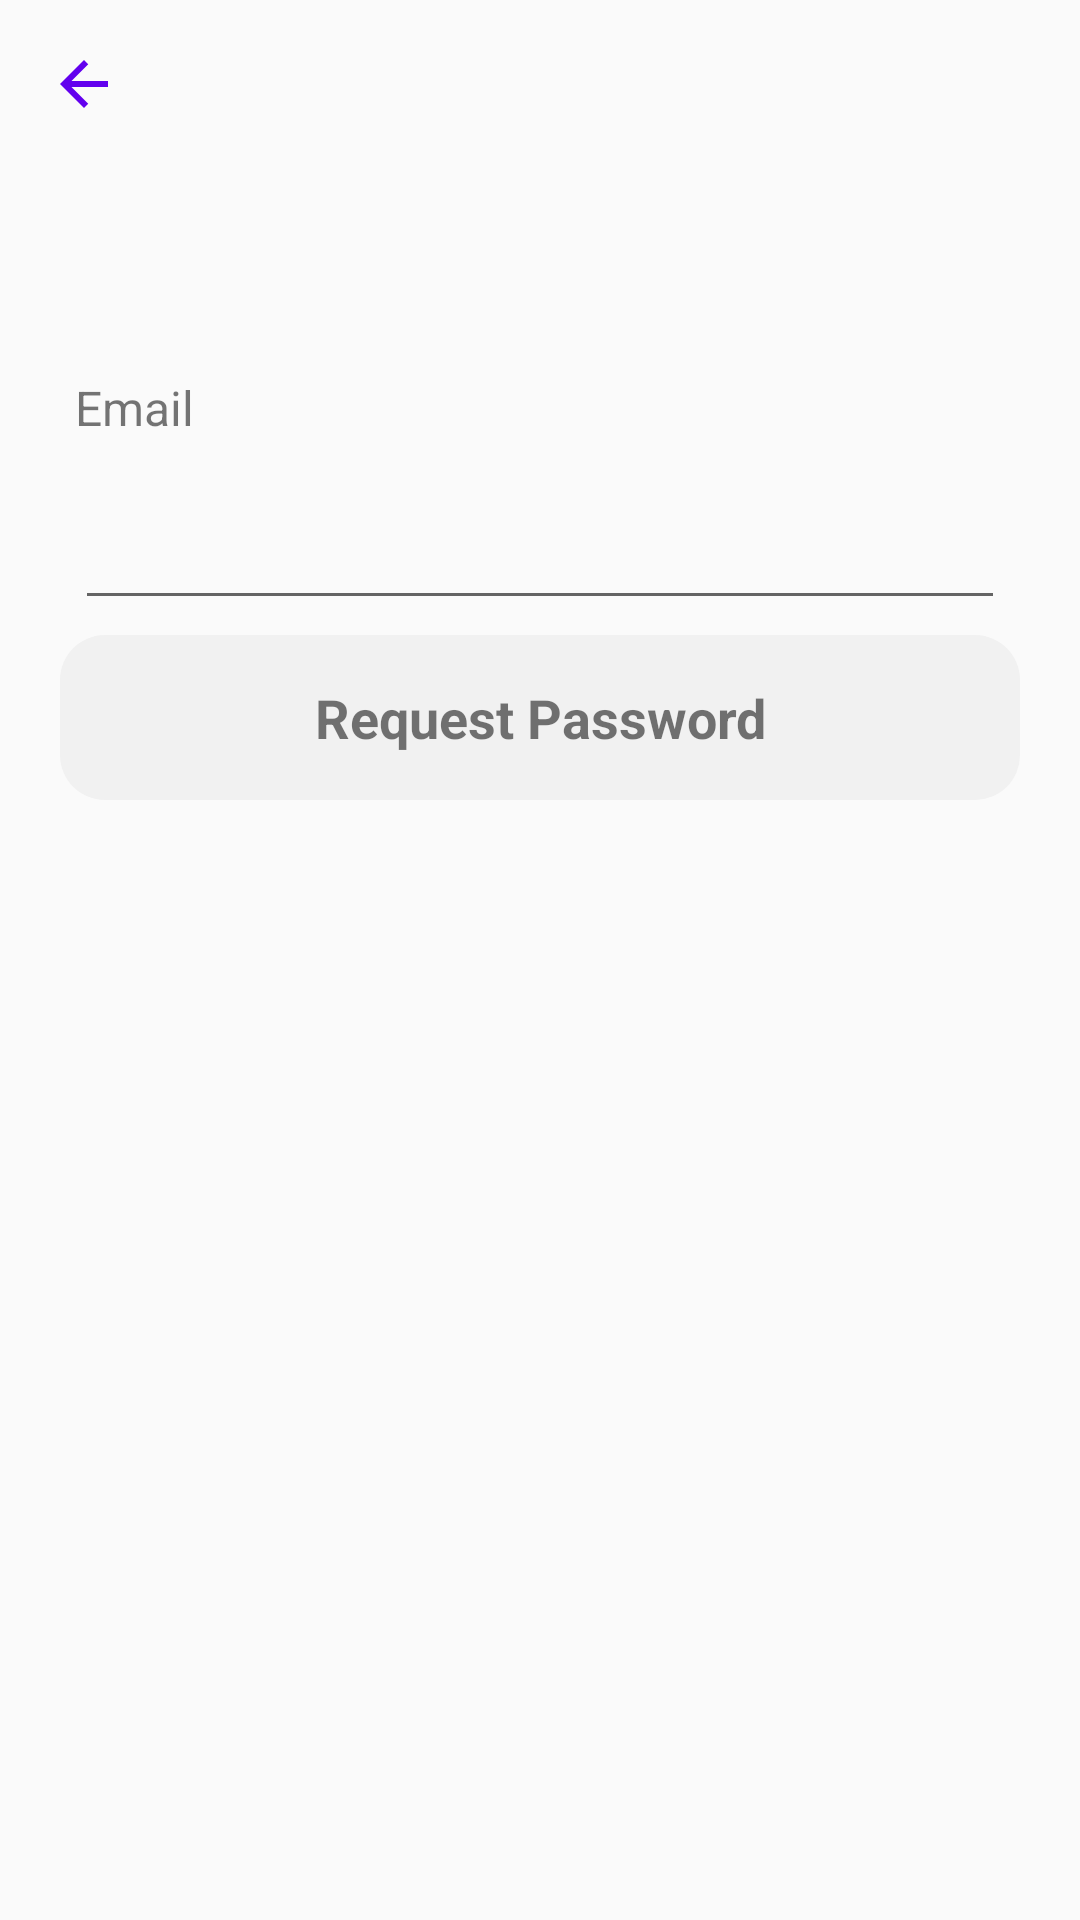

Icon bounding boxes for this 1080×1920 phone screenshot, format (x1, y1, x2, y2):
back arrow: (60, 60, 108, 108)
